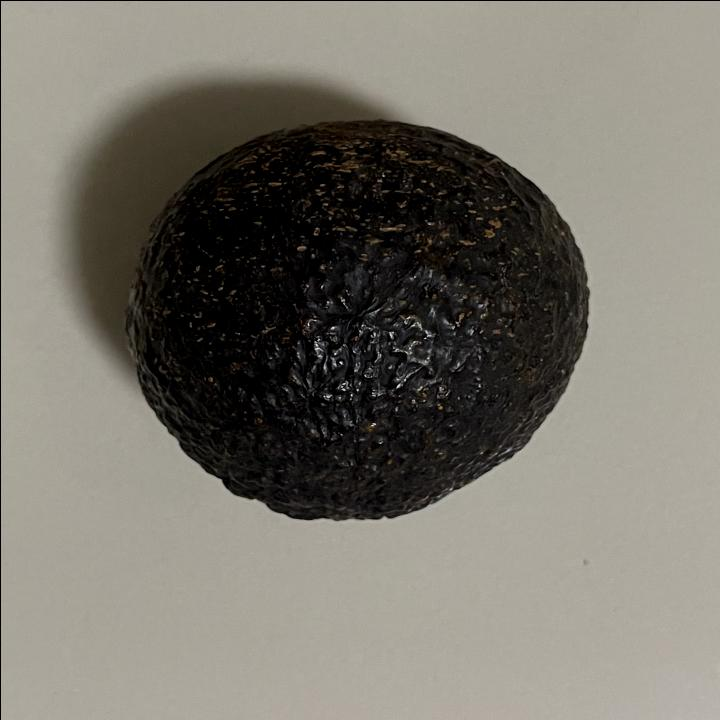Level2: (116, 112, 600, 528)
